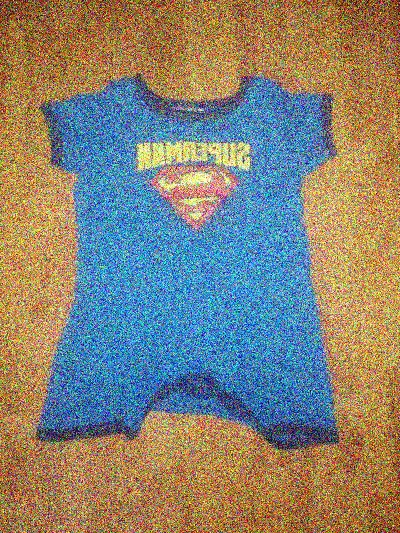Body: (18, 44, 366, 459)
